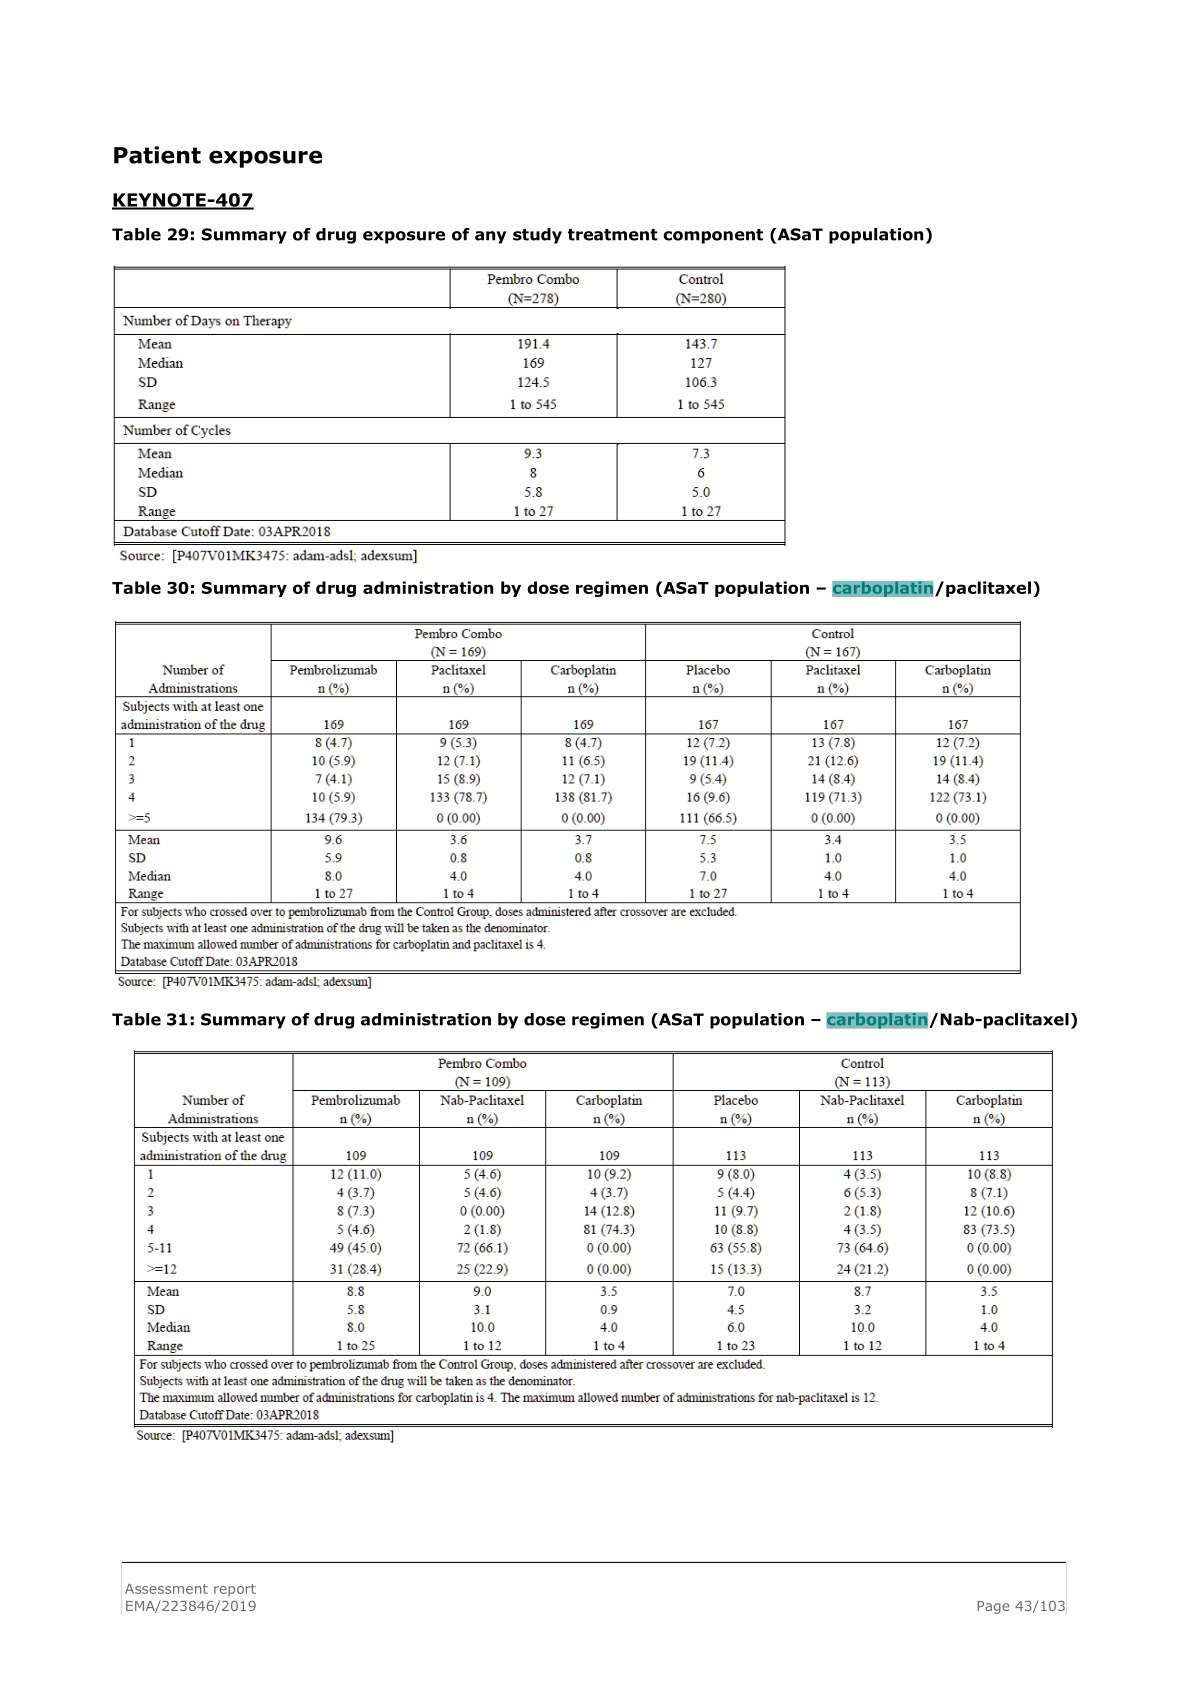partial_lined_merged_cells: (131, 1050, 1055, 1428), (115, 621, 1023, 974), (113, 267, 787, 546)
